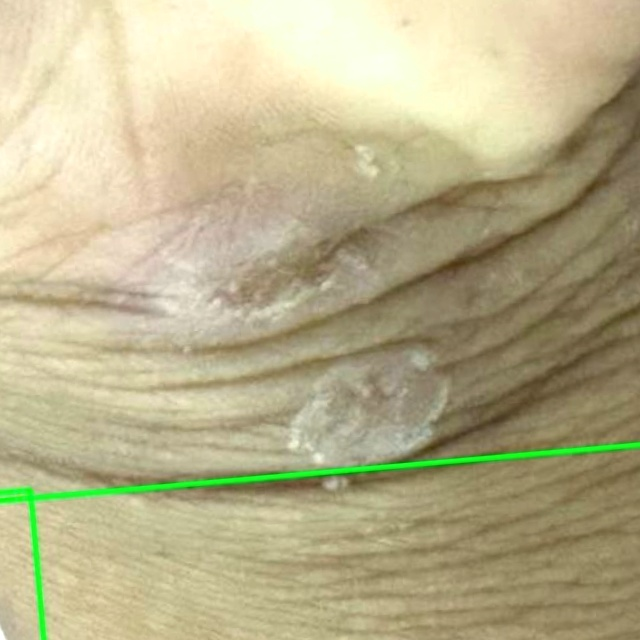Scabies: (0, 0, 639, 500)
